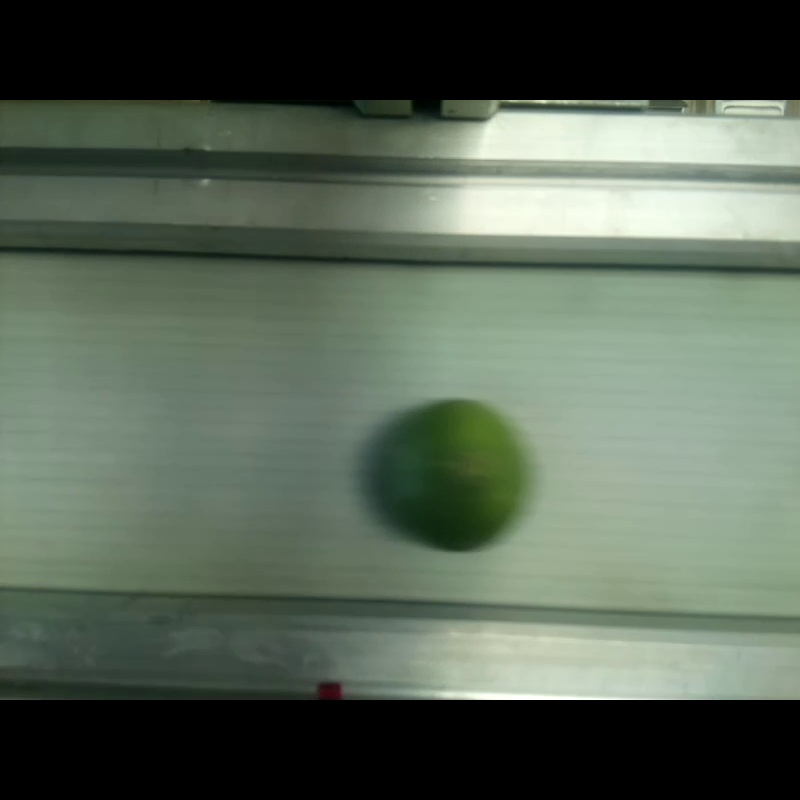lime: (387, 397, 525, 552)
